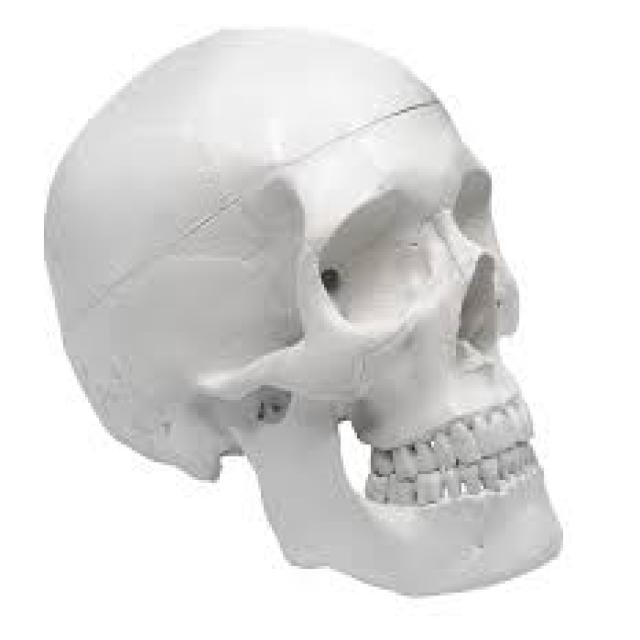skull: (27, 13, 583, 618)
